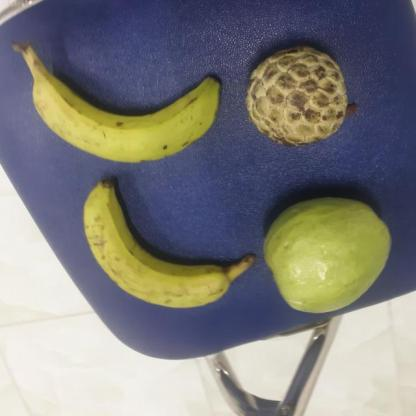annona: (242, 44, 357, 146)
banana: (82, 182, 268, 306), (32, 57, 227, 163)
guava: (263, 197, 395, 314)
